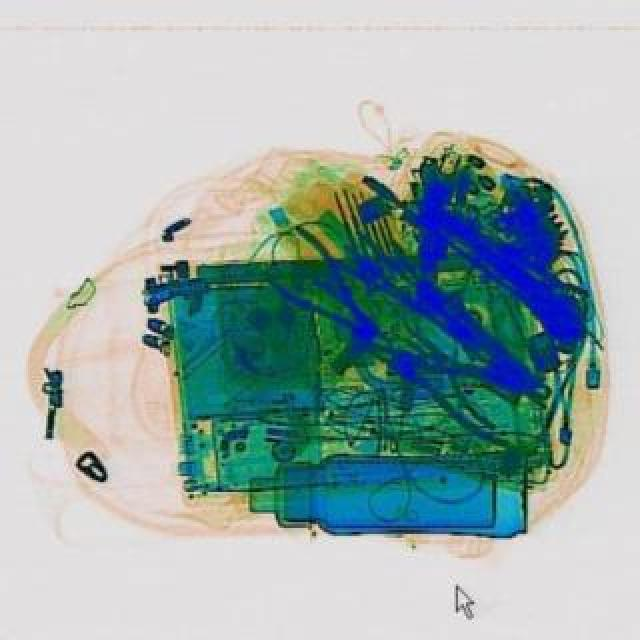wrench: (348, 314, 548, 454), (248, 218, 396, 354)
